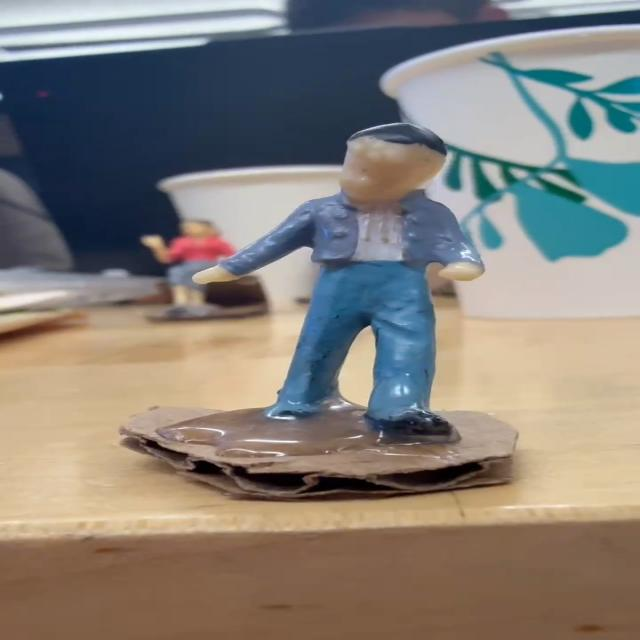Authorized: (158, 111, 559, 449)
